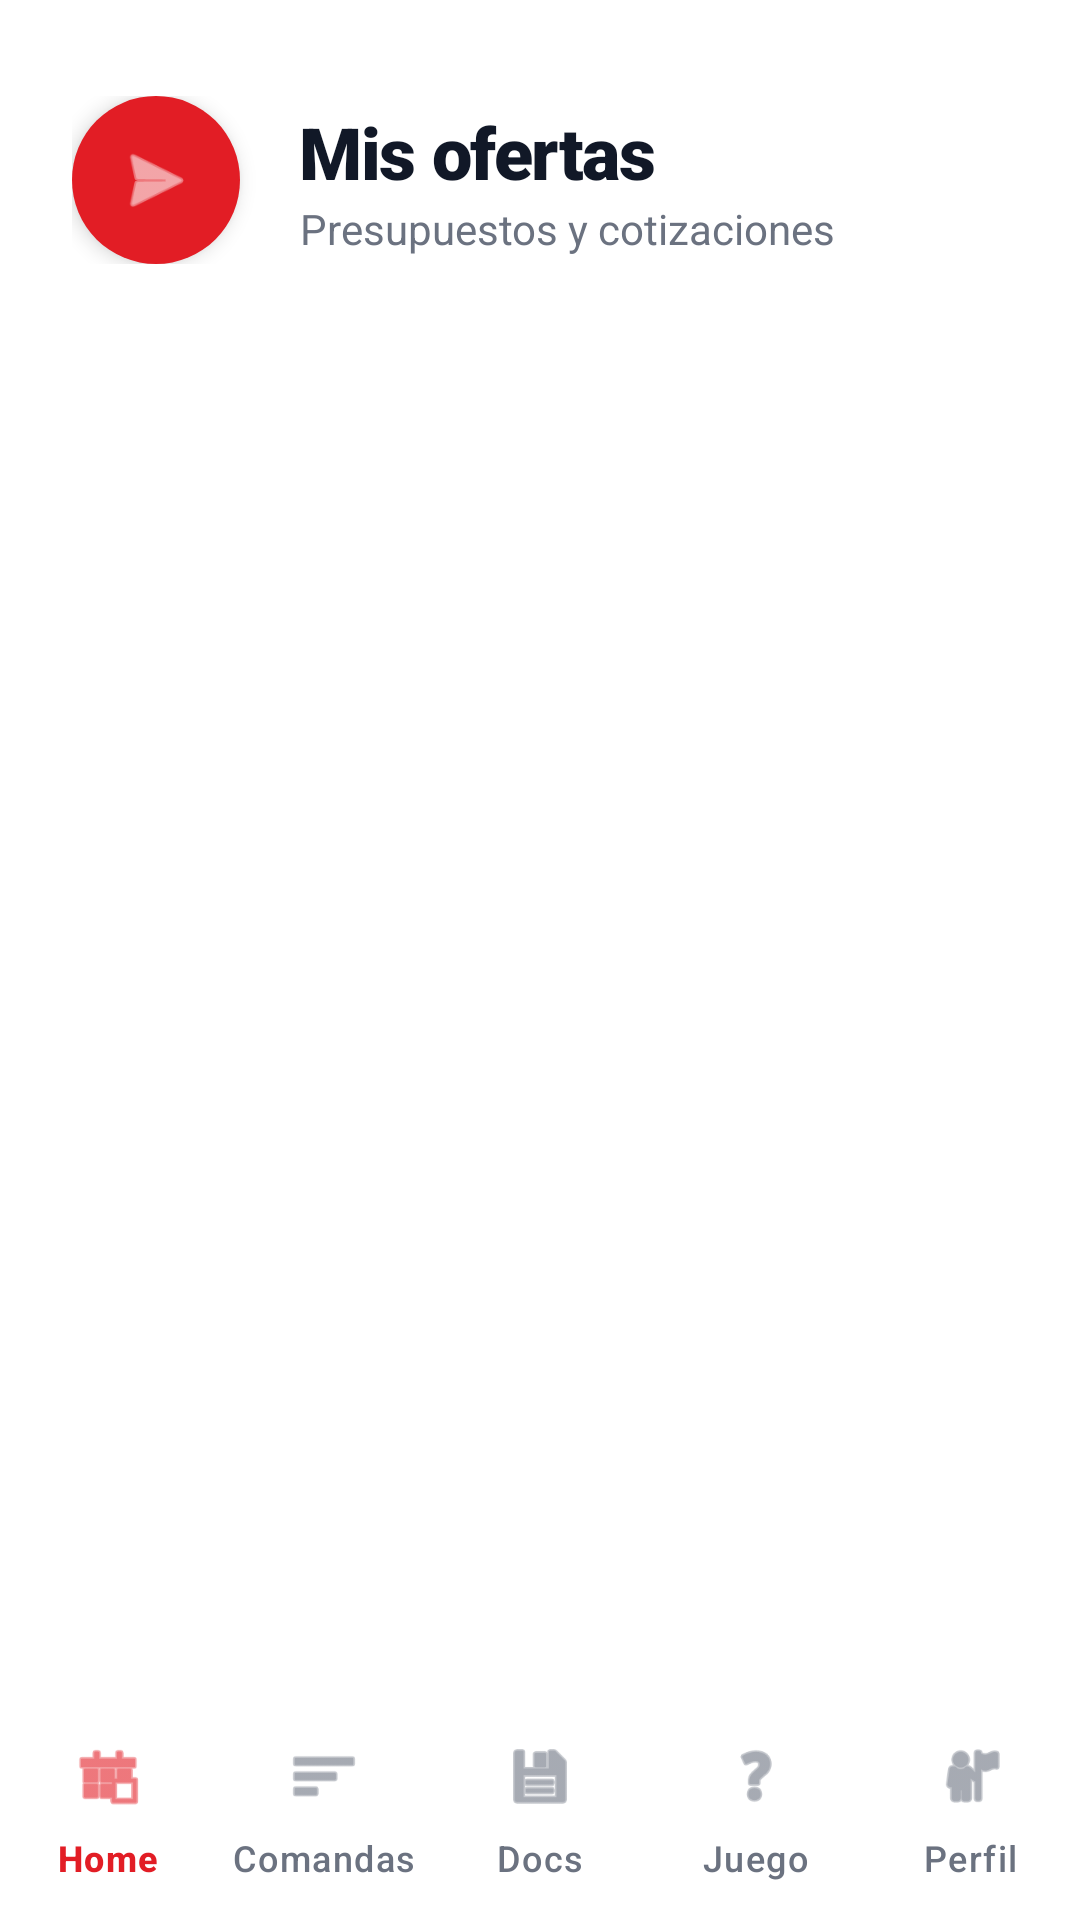

Named icons in this screenshot (1080 × 1920) and their bounding boxes, (x1, y1, x2, y2):
send: (130, 154, 184, 207)
